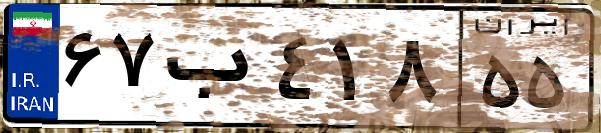1: (330, 28, 385, 110)
4: (270, 28, 330, 110)
5: (475, 38, 525, 113), (525, 38, 570, 115)
6: (57, 26, 110, 100)
7: (110, 28, 158, 98)
8: (385, 28, 445, 110)
ب: (158, 20, 270, 120)
